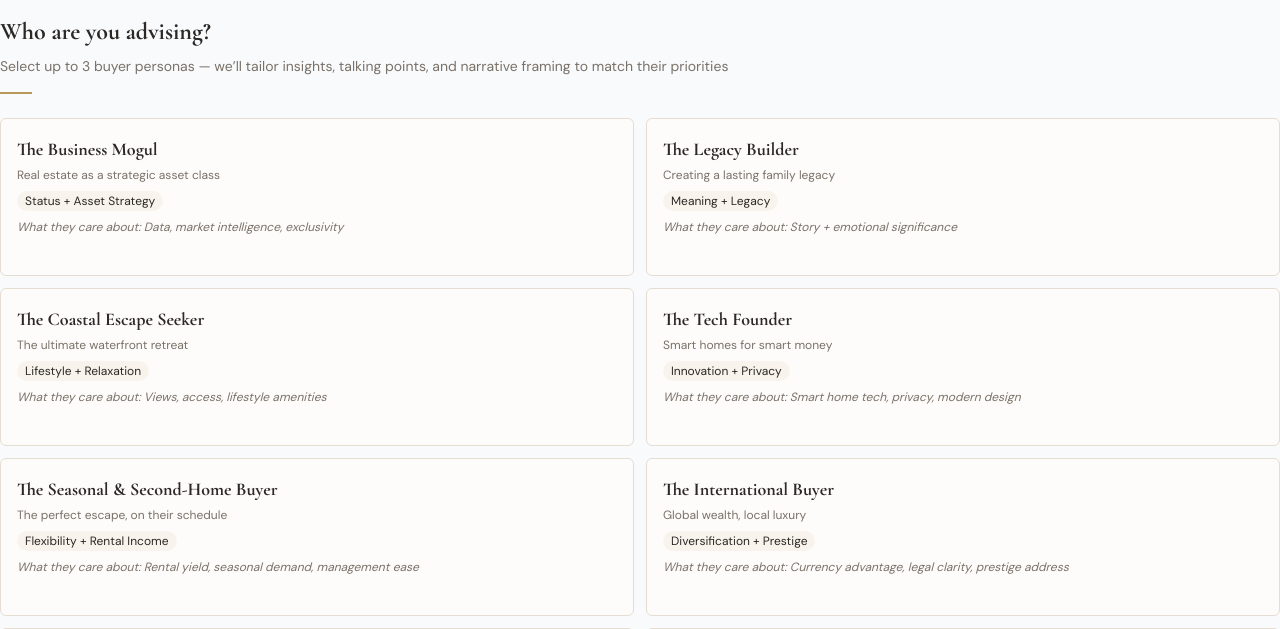
Test: Step 4: Your Audience (#155) › StepYourAudience › CMP-155-14: select up to 3
Expected: the heading "The Business Mogul" is shown, [17, 138, 158, 160]
Click the switch "The Business Mogul" at (87, 149), box [0, 118, 634, 276]
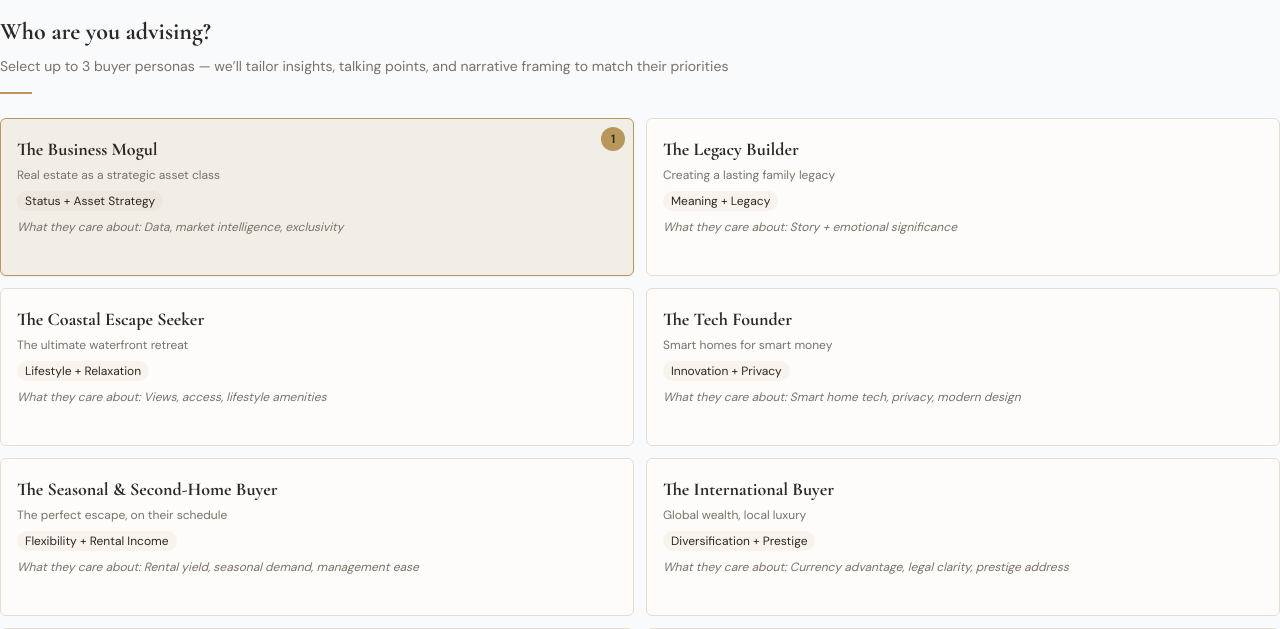
Click the switch "The Legacy Builder" at (731, 149), box [646, 118, 1279, 276]
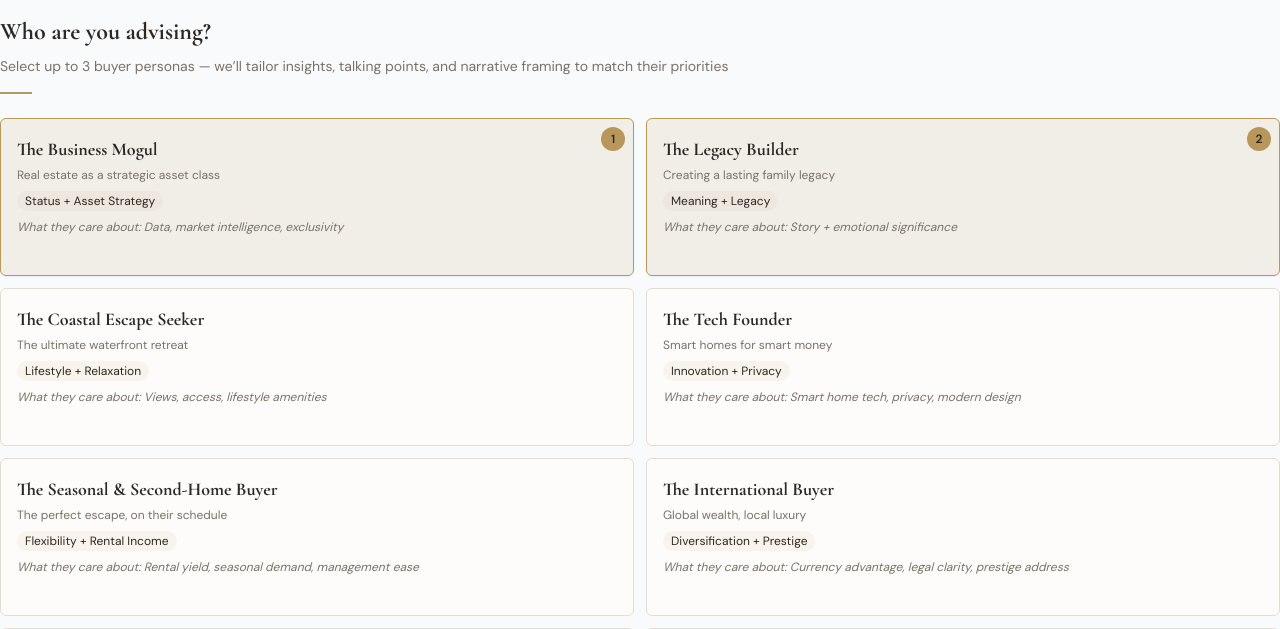
Click the switch "The Tech Founder" at (728, 319), box [646, 288, 1279, 446]
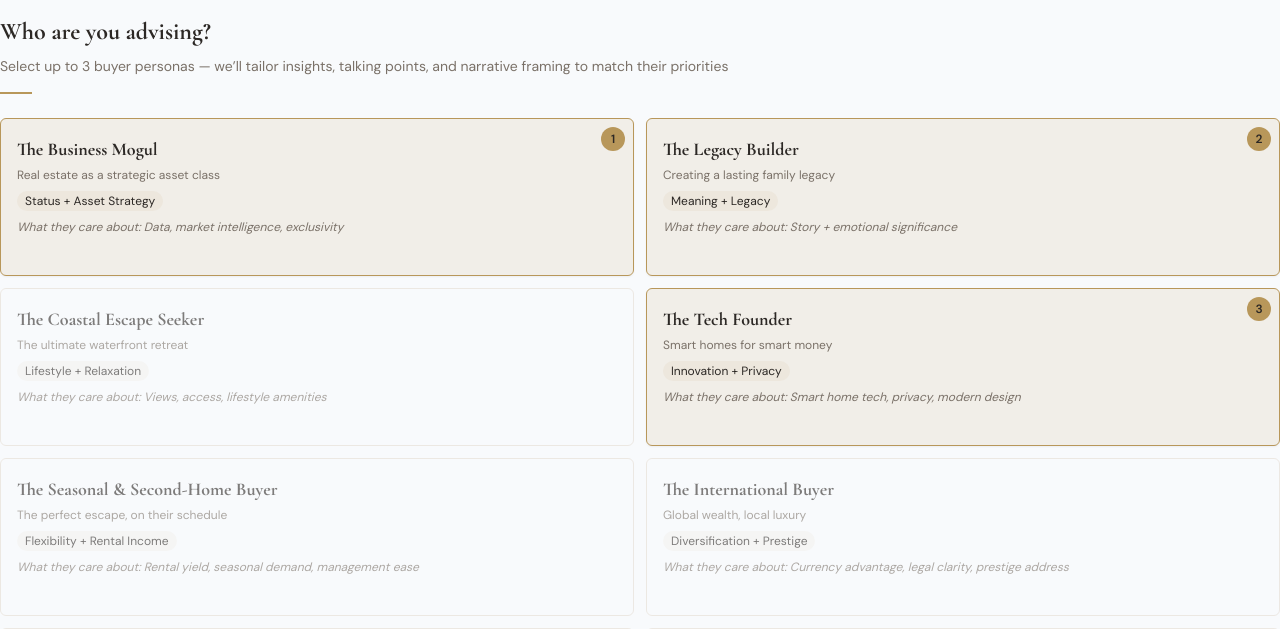
Now the text "1" is shown, box [601, 127, 625, 151]
Now the text "2" is shown, box [1247, 127, 1271, 151]
Now the text "3" is shown, box [1247, 297, 1271, 321]
